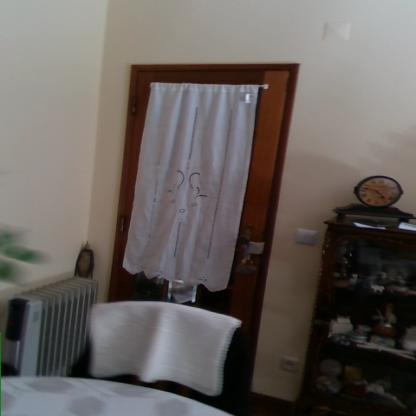closed: (97, 53, 303, 396)
